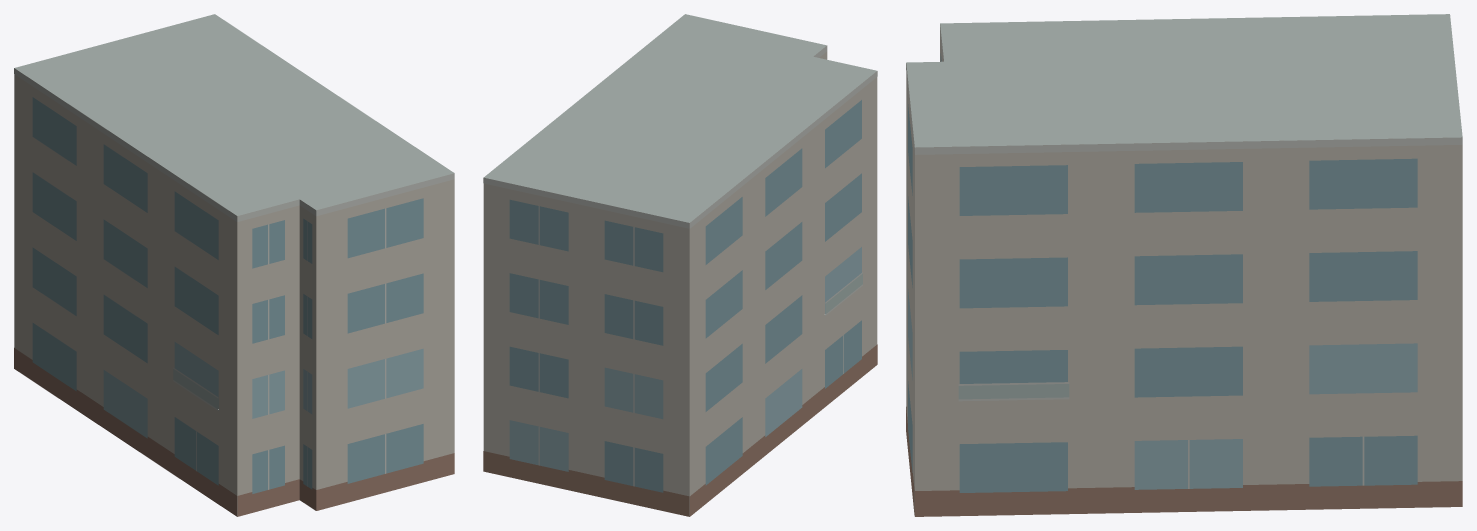
File: survey-upis-32906953.glb
3 renders of one model, left to right at view 1: azimuth 30°, elevation 25°; view 2: azimuth 150°, elevation 25°; view 3: azimuth 270°, elevation 25°, orthographic. The views are drawn at different scales.
Parts seen in each view (by area): view 1: survey-upis-32906953.tmp; view 2: survey-upis-32906953.tmp; view 3: survey-upis-32906953.tmp.
Boxes of the visible parts, x1,y1,x2,y2 form: survey-upis-32906953.tmp: [14, 14, 454, 516]; survey-upis-32906953.tmp: [483, 14, 877, 516]; survey-upis-32906953.tmp: [906, 14, 1462, 516].
Size of the model in its own units: 9.46 by 12.2 by 16.67.
